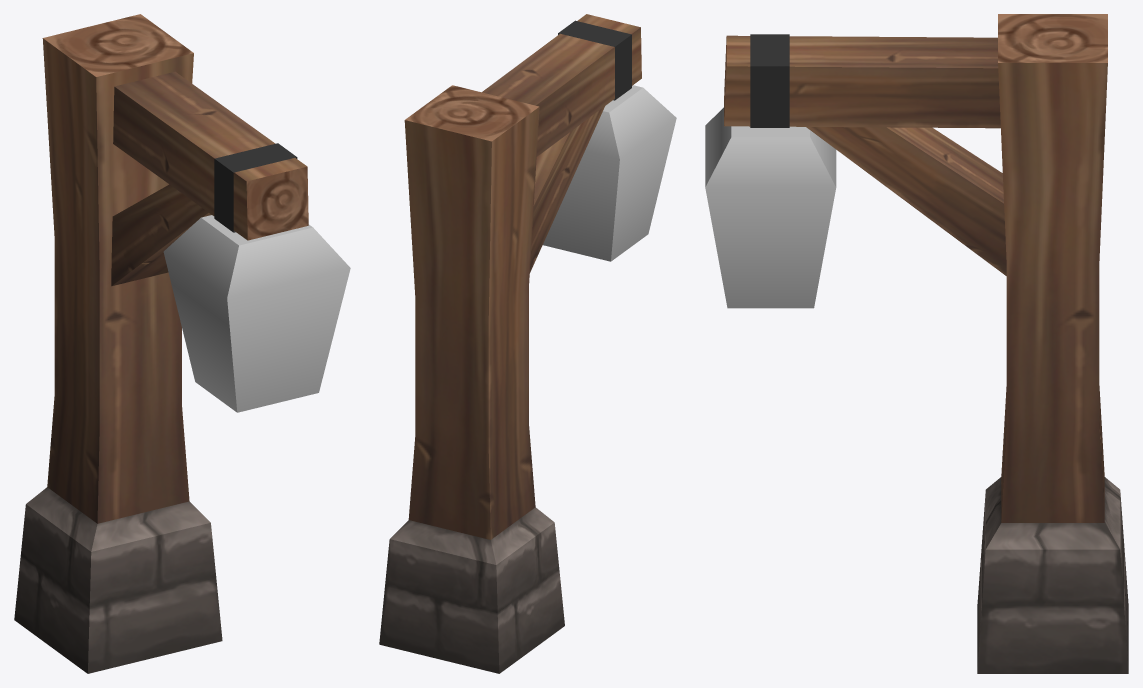
The model's file is lamp post.FBX.
3 views of the same model, side by side, from view 1: azimuth 30°, elevation 25°; view 2: azimuth 150°, elevation 25°; view 3: azimuth 270°, elevation 25° (orthographic). The views are drawn at different scales.
Parts seen in each view (by area): view 1: lamp post, light on; view 2: lamp post, light on; view 3: lamp post, light on.
Part boxes in pixels (bbox=[...]): lamp post: bbox=[14, 14, 308, 673]; light on: bbox=[163, 215, 350, 412]; lamp post: bbox=[379, 14, 641, 673]; light on: bbox=[543, 85, 676, 261]; lamp post: bbox=[724, 14, 1128, 673]; light on: bbox=[705, 107, 836, 308].
Size of the model in its own units: 106 by 441 by 282.
